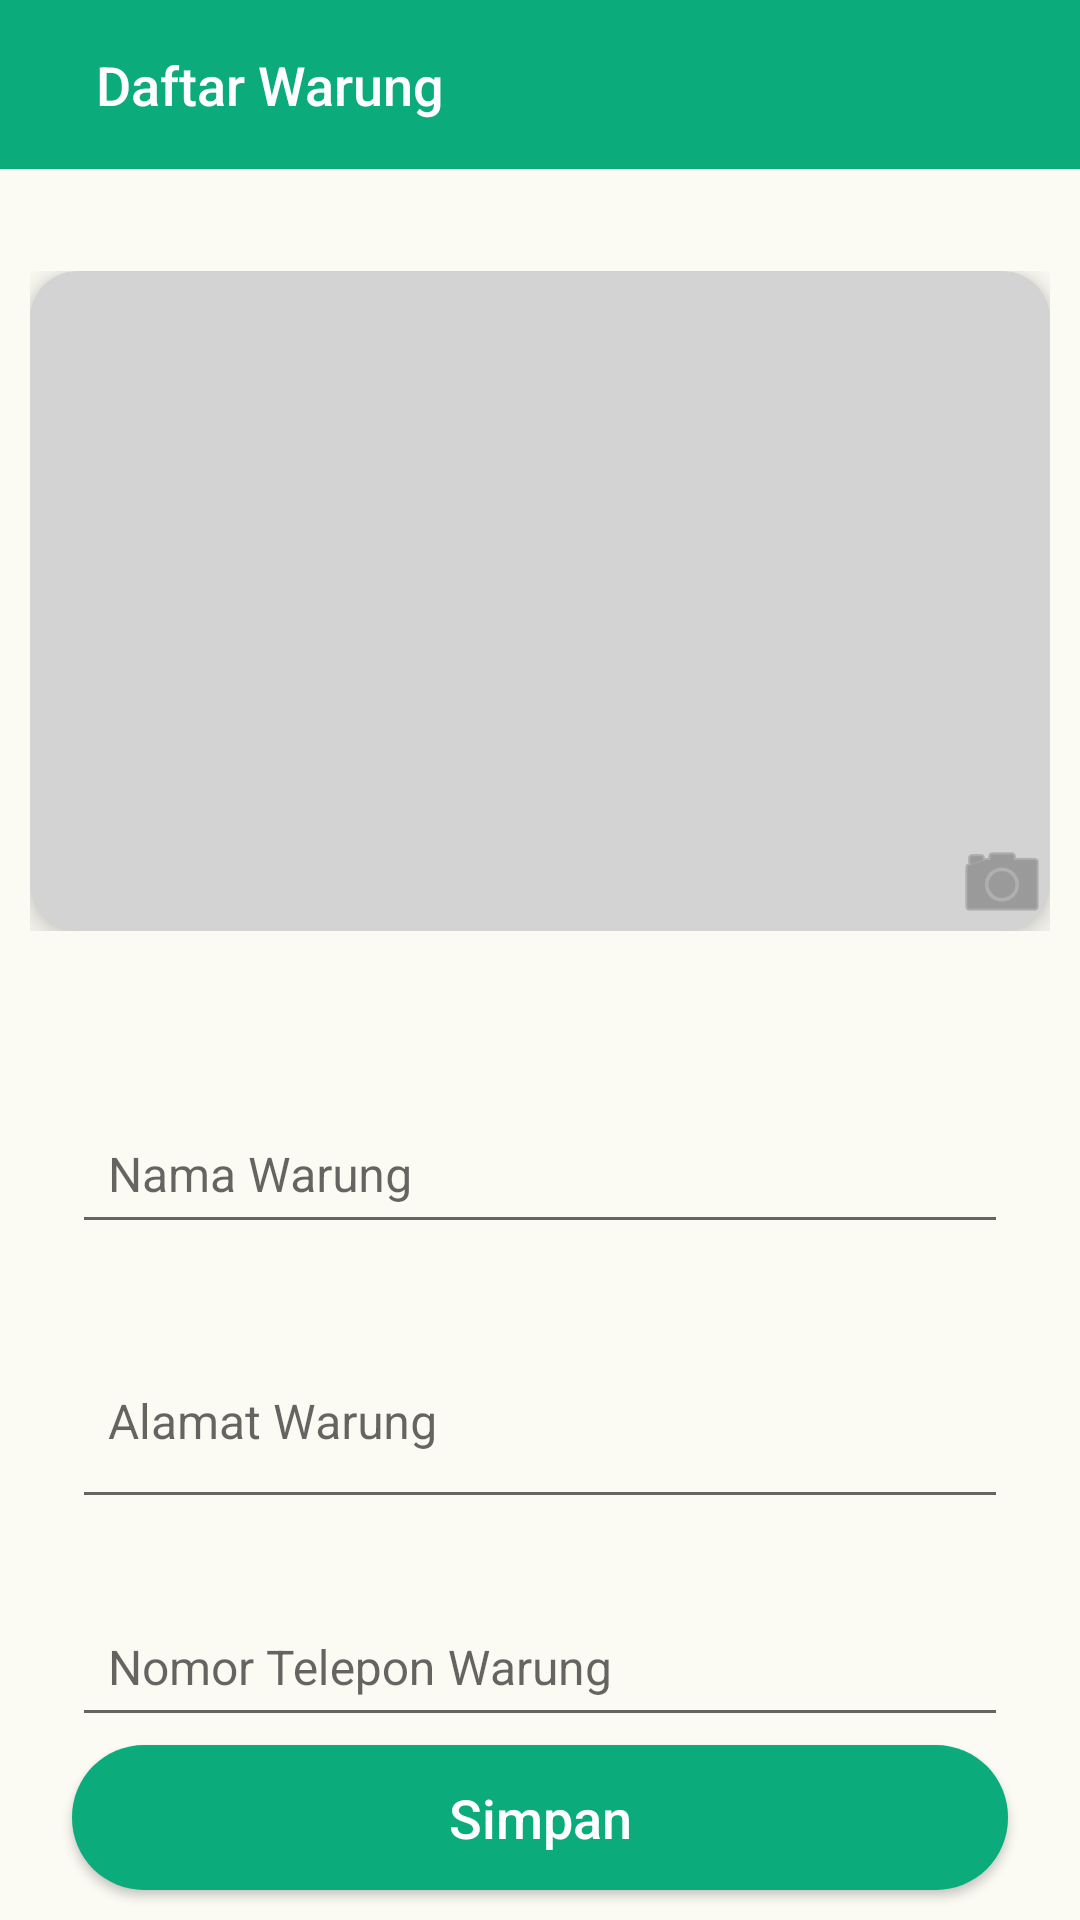

Named icons in this screenshot (1080px×1920px) and their centers, [x,y]:
camera: [1002,881]
